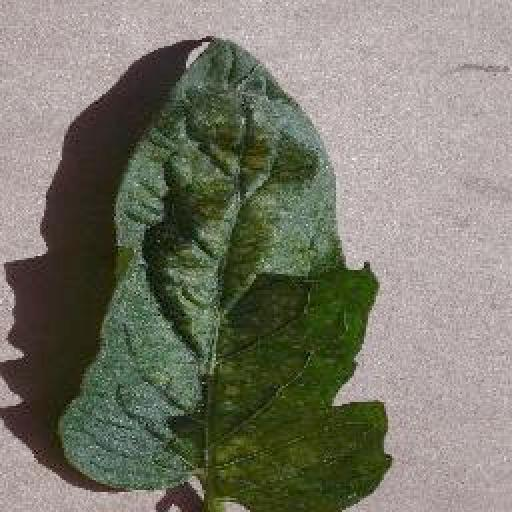disease_tomato: (56, 34, 390, 512)
